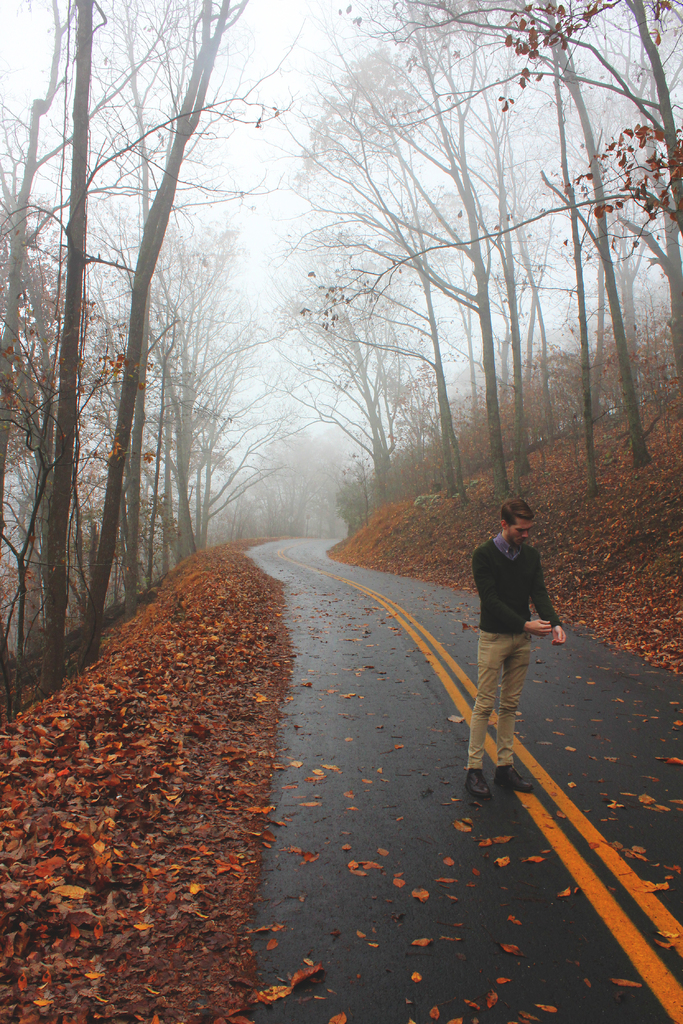Tree: (0, 0, 299, 725), (260, 0, 612, 488)
